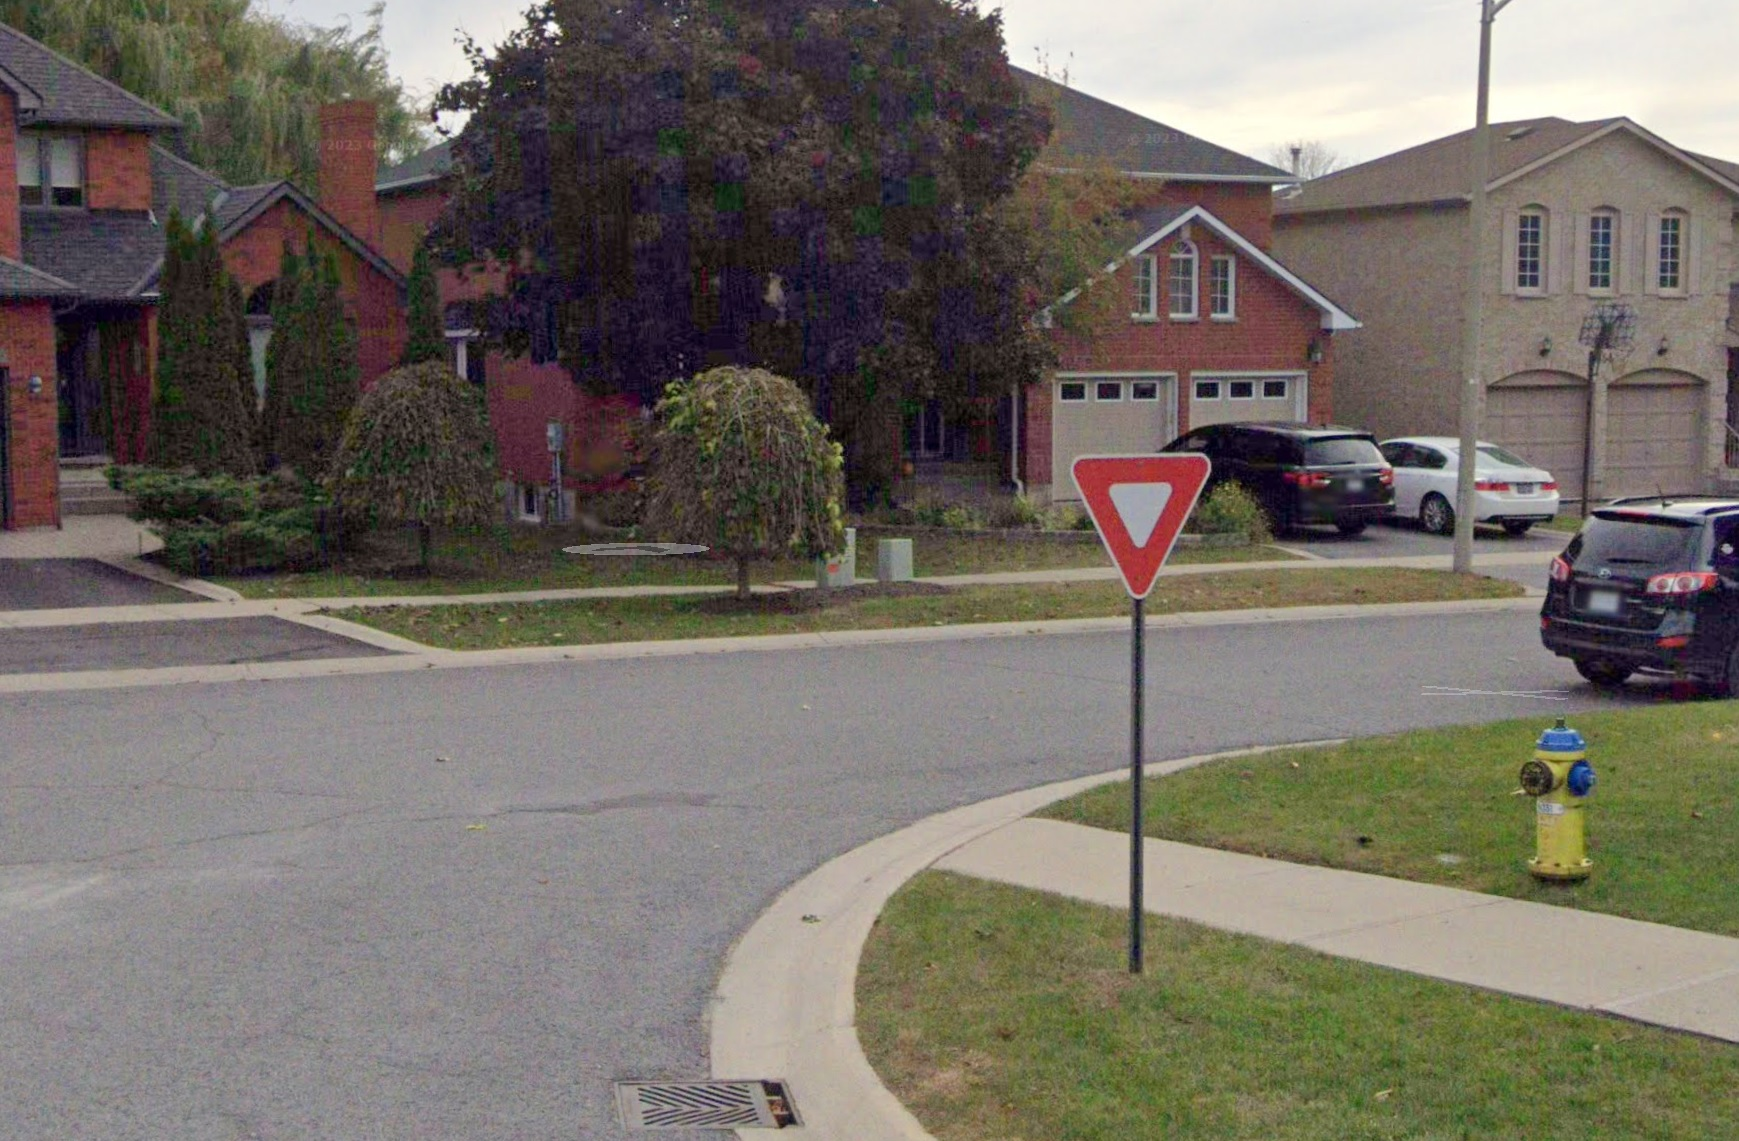sign_yield: (1069, 451, 1209, 599)
